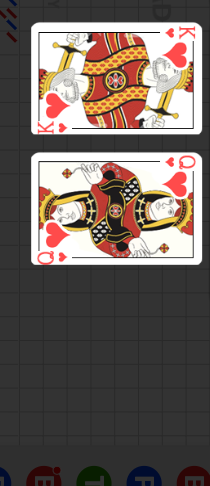9H: (35, 250, 69, 265)
KH: (163, 25, 197, 41)
